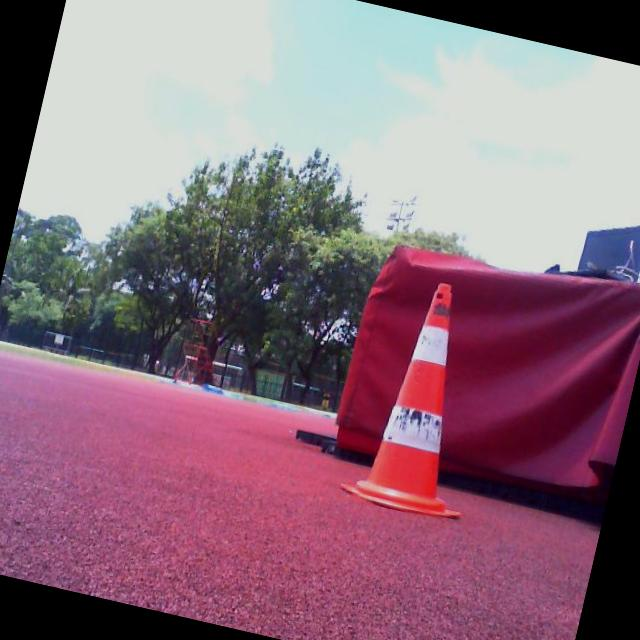Cone: (336, 270, 509, 526)
